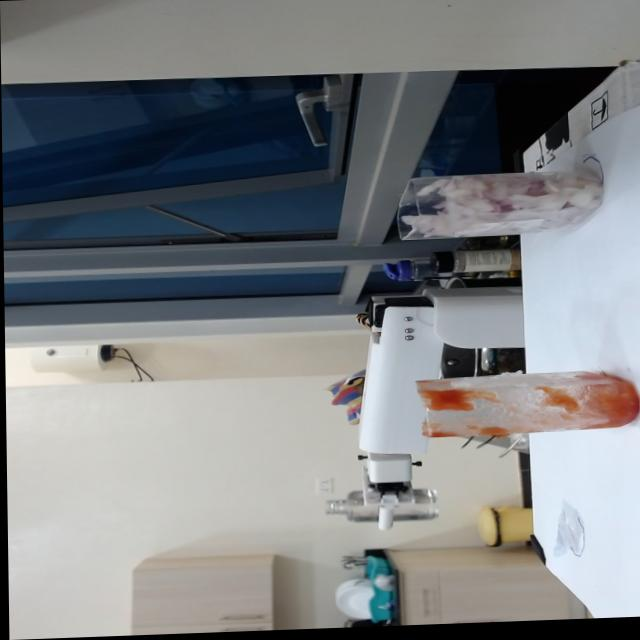blended_tomatoes_pepper: (422, 373, 638, 444)
sliced_onions: (415, 168, 606, 241)
water: (351, 491, 436, 521)
